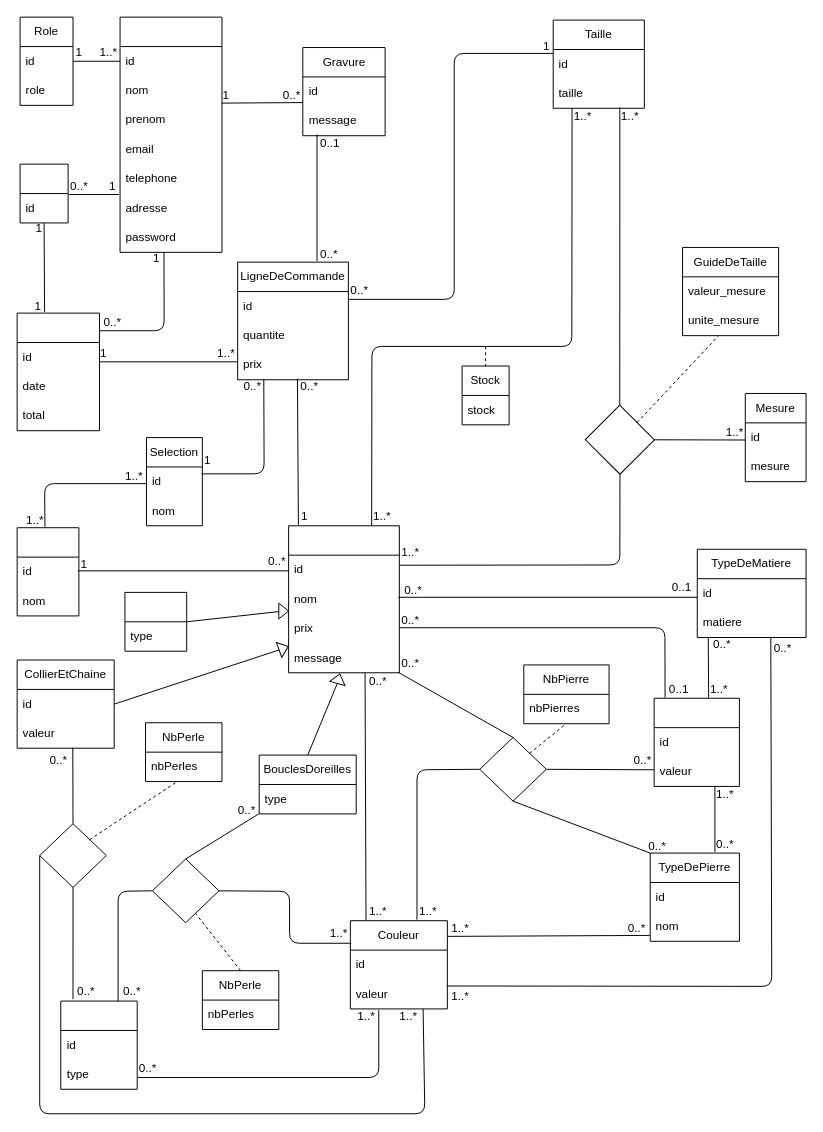
Some shapes in this 823 by 1132 pixel diagram are drawn without their labels. The box of each missing label's shape, as (x1, y1, x2, y2) in pixels:
Article: (288, 525, 399, 673)
Bague: (124, 591, 187, 651)
Categorie: (16, 527, 79, 616)
Commande: (16, 312, 99, 431)
Facture: (19, 163, 68, 223)
NbCarat: (653, 697, 739, 786)
TypeDePerle: (60, 1000, 137, 1089)
Utilisateur: (119, 16, 222, 252)
